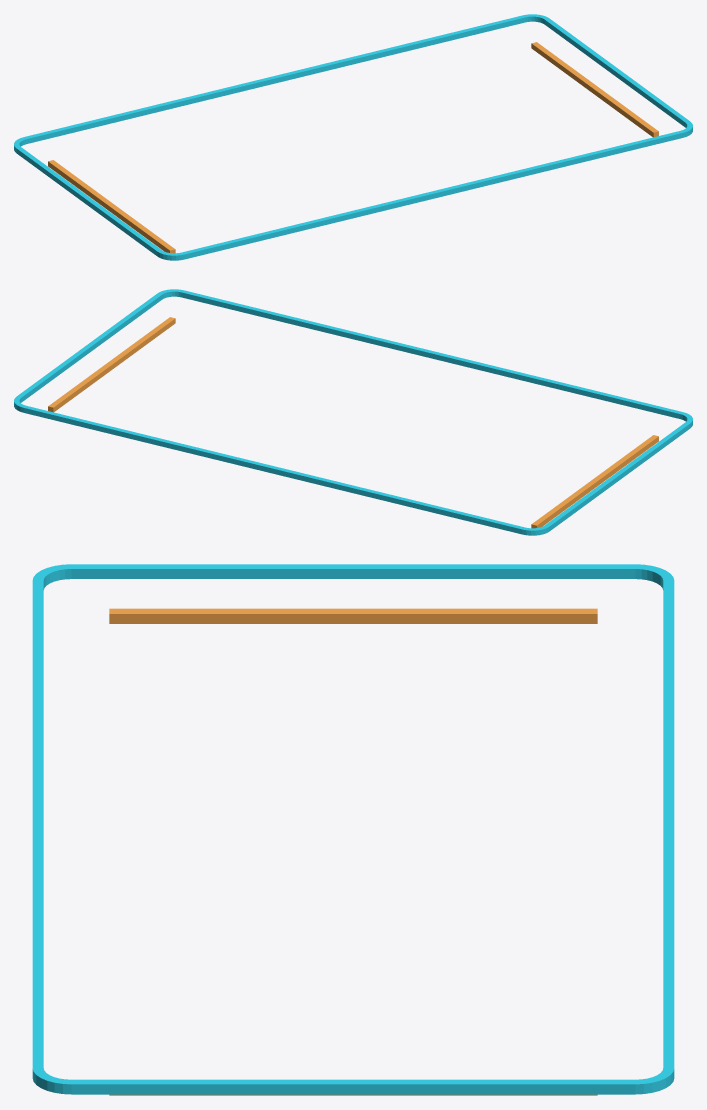
File: 25_PS_Table_FloatingUnderGlow.fbx
The picture shows the model from 3 angles, top to bottom: view 1: azimuth 30°, elevation 25°; view 2: azimuth 150°, elevation 25°; view 3: azimuth 270°, elevation 25°; orthographic projection. The views are drawn at different scales.
Parts seen in each view (by area): view 1: PS_Table_FloatingUnderGlow; view 2: PS_Table_FloatingUnderGlow; view 3: PS_Table_FloatingUnderGlow.
Part boxes in pixels (x1=…): PS_Table_FloatingUnderGlow: x1=14, y1=14, x2=692, y2=260; PS_Table_FloatingUnderGlow: x1=14, y1=289, x2=692, y2=535; PS_Table_FloatingUnderGlow: x1=32, y1=564, x2=674, y2=1095.
Bounding box in the file's own units: 882 × 26 × 460.
